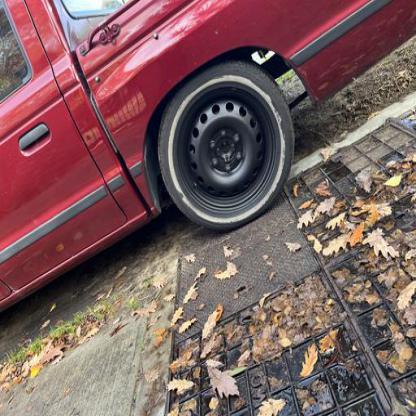Tire: (157, 59, 296, 232)
